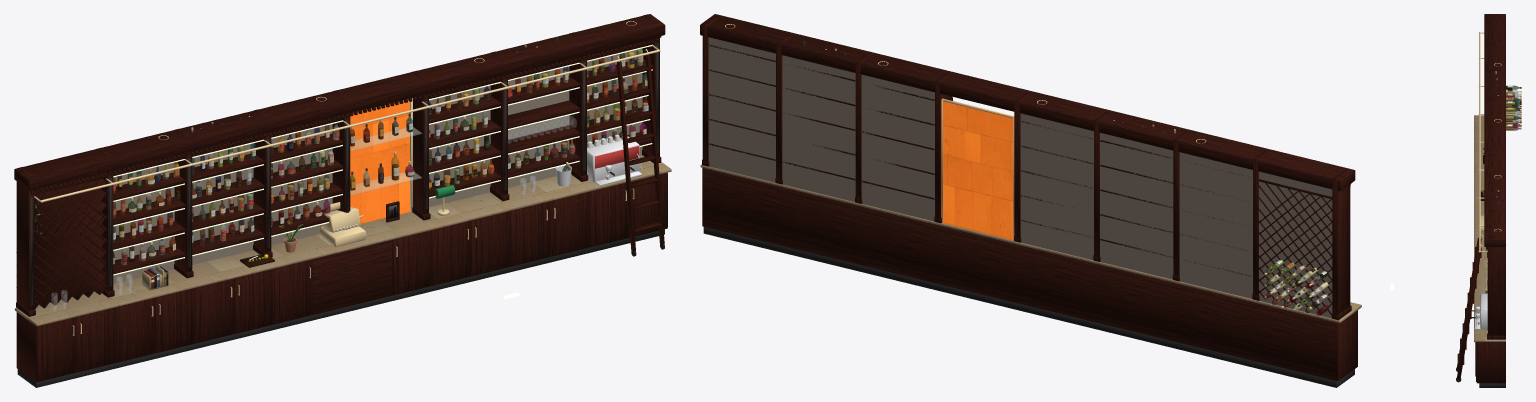
The model's file is back_bar_tall.glb.
The picture shows the model from 3 angles, left to right: view 1: azimuth 30°, elevation 25°; view 2: azimuth 150°, elevation 25°; view 3: azimuth 270°, elevation 25°; orthographic projection. The views are drawn at different scales.
Parts seen in each view (by area): view 1: Back bar wood, Smoked mirror, Marble top, Bottle glass, Kick plate, Onyx, Drinks, Bottle labels, Brass, LED strip, Ladder wood, Glassware (+2 smaller); view 2: Back bar wood, Smoked mirror, Onyx, Kick plate, Marble top, Bottle glass, Drinks, Brass; view 3: Back bar wood, Marble top, Ladder wood, Brass, Bottle glass, Chrome, Drinks, Kick plate.
Part boxes in pixels (bbox=[...]): Back bar wood: bbox=[14, 14, 667, 382]; Smoked mirror: bbox=[113, 49, 642, 283]; Marble top: bbox=[14, 155, 671, 326]; Bottle glass: bbox=[113, 40, 648, 266]; Kick plate: bbox=[17, 44, 664, 387]; Onyx: bbox=[350, 99, 409, 224]; Drinks: bbox=[113, 49, 647, 265]; Bottle labels: bbox=[113, 56, 648, 264]; Brass: bbox=[34, 21, 660, 335]; LED strip: bbox=[113, 44, 652, 275]; Ladder wood: bbox=[617, 54, 664, 252]; Glassware: bbox=[51, 115, 576, 310]; Back bar wood: bbox=[700, 14, 1357, 381]; Smoked mirror: bbox=[708, 37, 1332, 318]; Onyx: bbox=[941, 99, 1013, 240]; Kick plate: bbox=[703, 227, 1354, 387]; Marble top: bbox=[700, 164, 1361, 323]; Bottle glass: bbox=[803, 44, 1328, 315]; Drinks: bbox=[1267, 259, 1328, 314]; Brass: bbox=[725, 24, 1350, 240]; Back bar wood: bbox=[1475, 14, 1505, 383]; Marble top: bbox=[1474, 115, 1505, 341]; Ladder wood: bbox=[1456, 238, 1481, 379]; Brass: bbox=[1474, 32, 1501, 342]; Bottle glass: bbox=[1485, 73, 1520, 293]; Chrome: bbox=[1474, 293, 1487, 329]; Drinks: bbox=[1506, 86, 1515, 130]; Kick plate: bbox=[1479, 249, 1505, 387].
Size of the model in its own units: 9.78 by 3.1 by 2.41.
35 materials, 12 textured.
